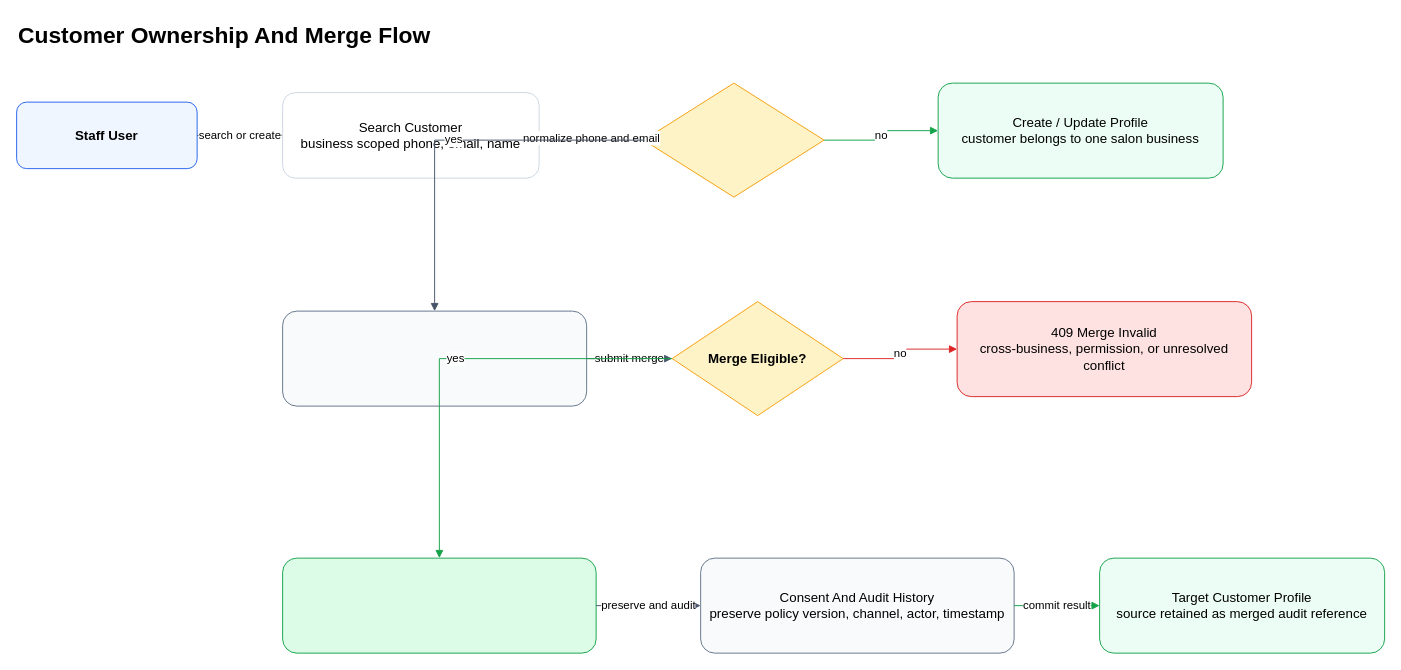
Image size: 1401x670. Some labels were removed from this diagram. Here are the shapes that lost their labels. From the top down, the centre of each, then its label:
the point at 733,139: Duplicate Candidate?
the point at 434,358: Merge Review source and target comparison with consent and visit impact
the point at 439,605: Merge Transaction move appointments, invoices, notes, tags, visit pointers
